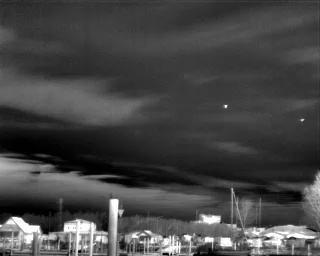BIRD: (298, 116, 306, 124)
